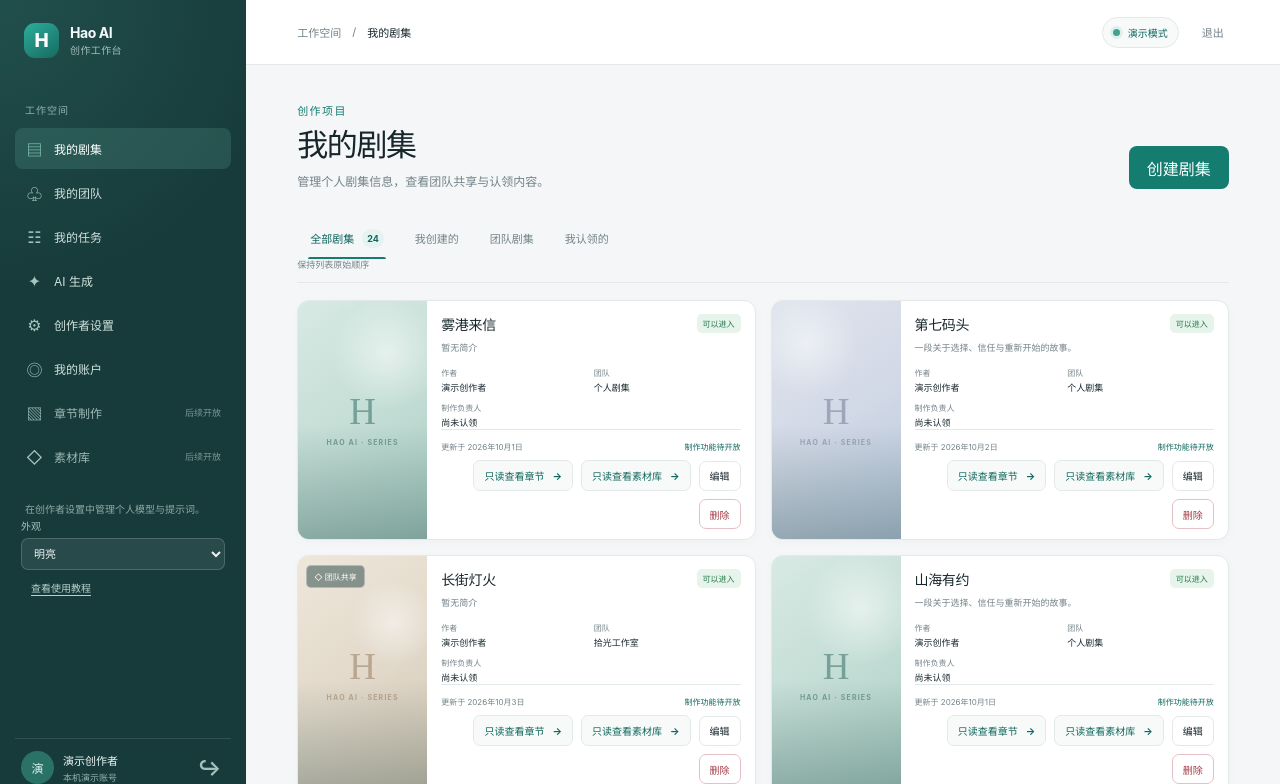
it: read-only workspace › opens the user-facing AI generation page from the main workspace navigation
Click the button "✦ AI 生成": {"x": 123, "y": 280} [15,260,231,301]
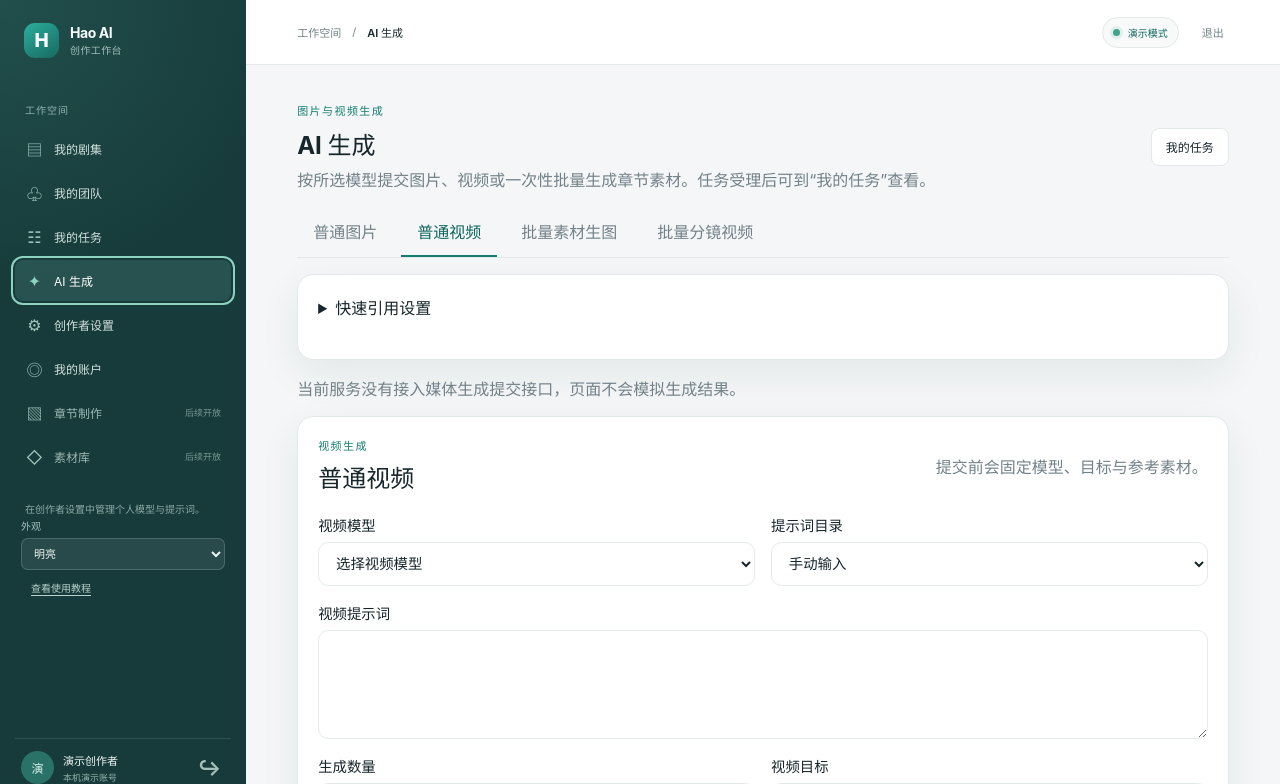
Expected: the heading "AI 生成" is shown, [297,131,376,160]
Expected: the button "批量素材生图" is shown, [505,207,633,257]
Expected: the text "当前服务没有接入媒体生成提交接口，页面不会模拟生成结果。" is shown, [297,379,745,399]
